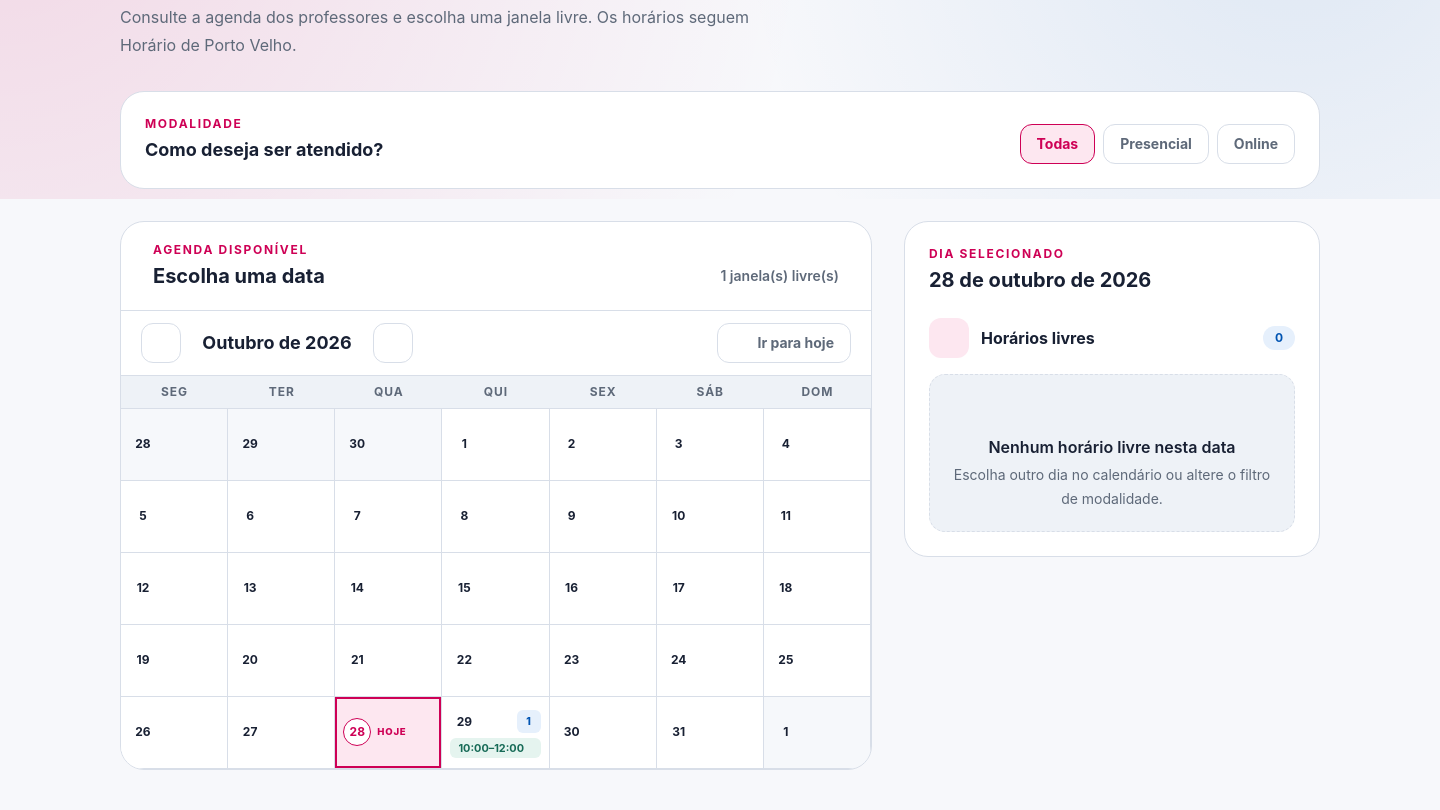
Test: NewAppointmentView › consulta o mês e mostra o resumo do dia na lateral antes de selecionar uma janela
The width and height of the screenshot is (1440, 810).
(page scrolled)
Click the button "29 1 10:00–12:00": (496, 733) [442,697,550,769]
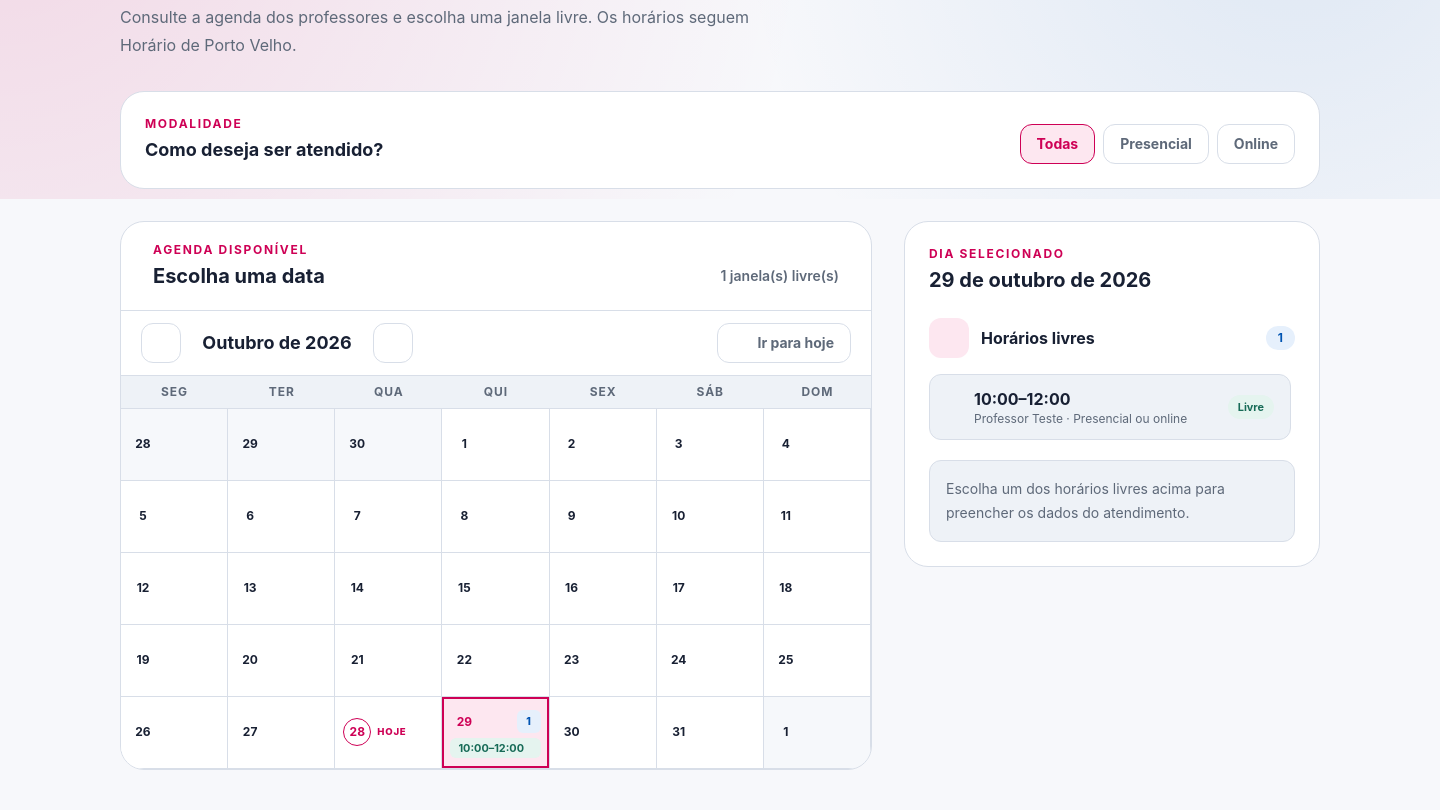
Check: the element with test id "selected-day-summary" shows "Professor Teste"
Check: the element with test id "selected-day-summary" shows "Presencial ou online"
Click the button with test id "day-interval-": (1022, 399) [929,374,1291,440]
(page scrolled)
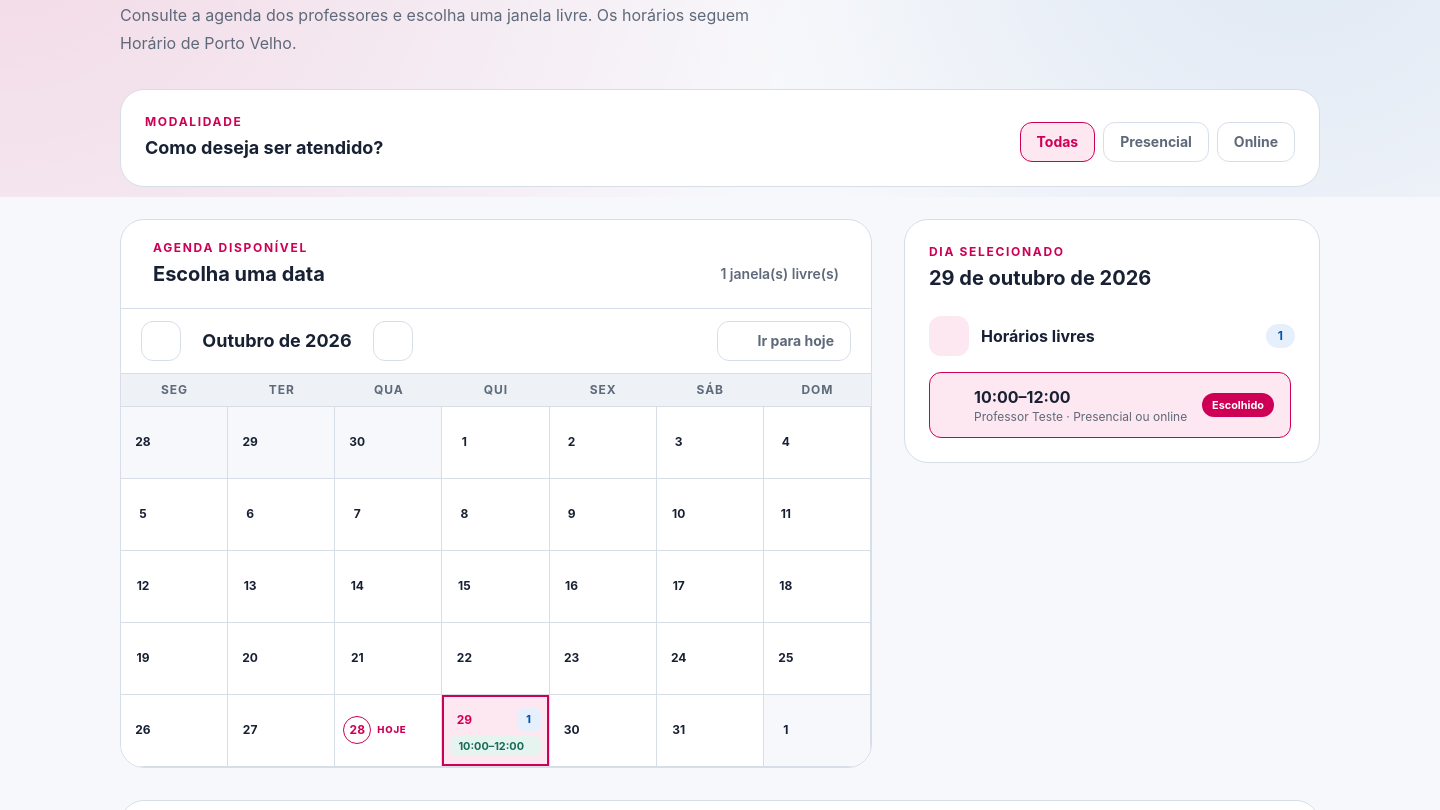
Check: the button with test id "day-interval-" shows "Escolhido", box [929,372,1291,438]
